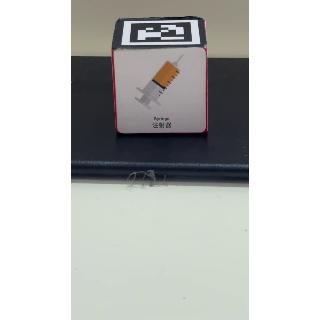Syringe: (114, 48, 210, 132)
